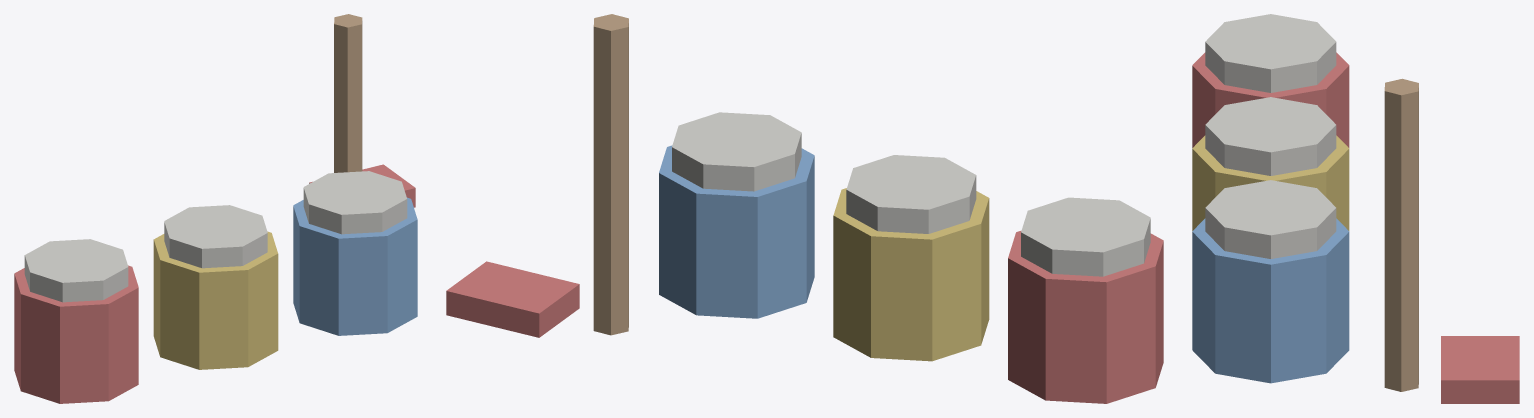
File: kid_tinta.glb
3 renders of one model, left to right at view 1: azimuth 30°, elevation 25°; view 2: azimuth 150°, elevation 25°; view 3: azimuth 270°, elevation 25°, orthographic. The views are drawn at different scales.
Parts seen in each view (by area): view 1: KID_TINTA_v01; view 2: KID_TINTA_v01; view 3: KID_TINTA_v01.
Part boxes in pixels (<box>): KID_TINTA_v01: <box>14,14,417,403</box>; KID_TINTA_v01: <box>446,14,1163,403</box>; KID_TINTA_v01: <box>1192,14,1519,403</box>.
Bounding box in the file's own units: 0.5 × 0.25 × 0.25.
